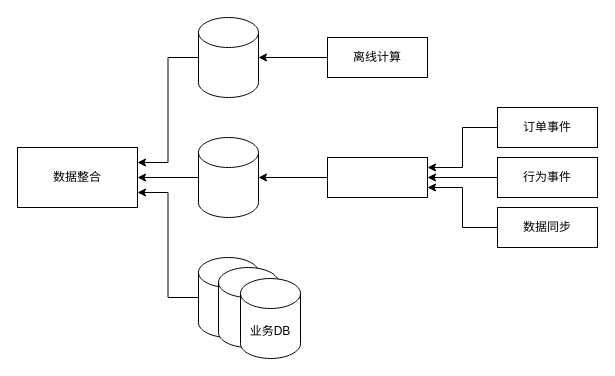
The diagram is 615 pixels wide and 376 high, and some of its shapes have lost their labels. Each missing label, with the box of its shape:
CK: (198, 136, 258, 218)
kafka: (326, 156, 428, 198)
临时库: (198, 16, 258, 98)
